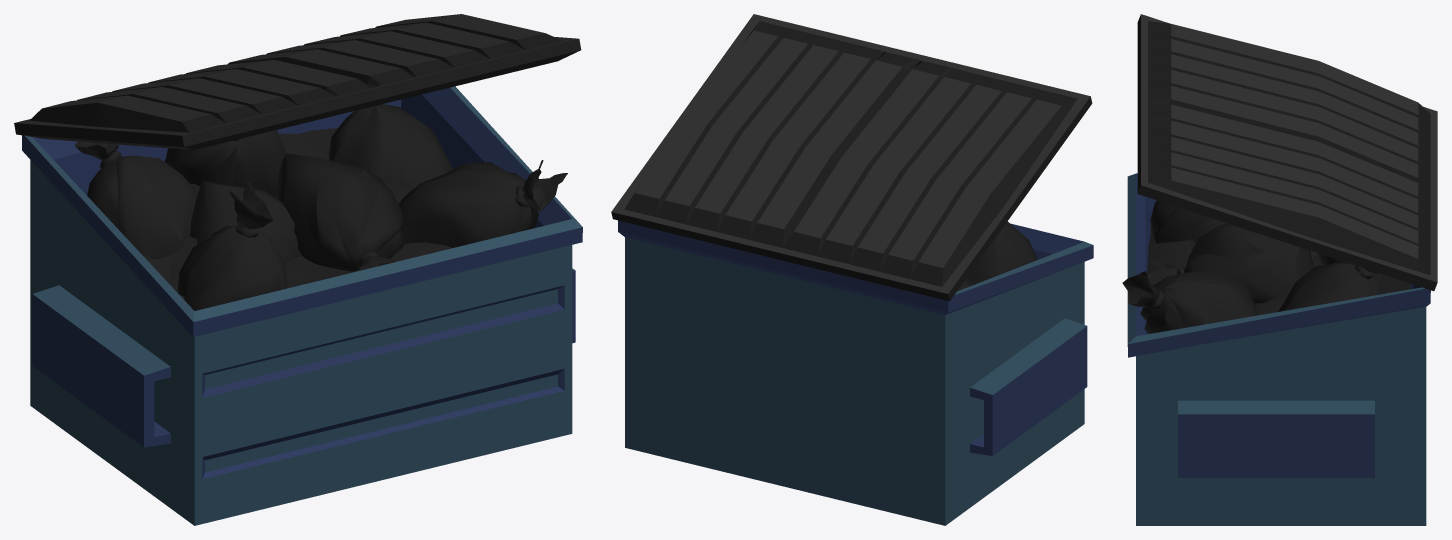
Rendered from Dumpster_OPEN_With_Garbage_01.fbx.
The picture shows the model from 3 angles, left to right: view 1: azimuth 30°, elevation 25°; view 2: azimuth 150°, elevation 25°; view 3: azimuth 270°, elevation 25°; orthographic projection. The views are drawn at different scales.
Visible parts, largest first — view 1: Dumpster_Body, Dumpster_Garbage_Plane, Dumpster_Lid, Dumpster_Handles; view 2: Dumpster_Body, Dumpster_Lid, Dumpster_Handles, Dumpster_Garbage_Plane; view 3: Dumpster_Lid, Dumpster_Body, Dumpster_Garbage_Plane, Dumpster_Handles.
Part boxes in pixels (x1,y1,x2,y2): Dumpster_Body: (22,86,582,525); Dumpster_Garbage_Plane: (75,104,567,310); Dumpster_Lid: (14,14,581,150); Dumpster_Handles: (32,268,575,447); Dumpster_Body: (618,220,1093,525); Dumpster_Lid: (611,14,1092,301); Dumpster_Handles: (970,318,1087,455); Dumpster_Garbage_Plane: (957,221,1037,291); Dumpster_Lid: (1137,14,1437,291); Dumpster_Body: (1127,173,1430,525); Dumpster_Garbage_Plane: (1122,200,1410,333); Dumpster_Handles: (1178,400,1374,477).
Size of the model in its own units: 573 by 496 by 411.
